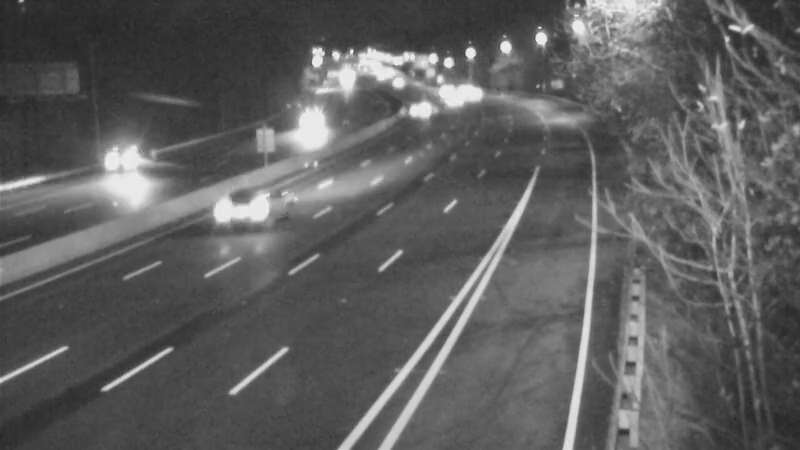vehicle: (197, 160, 277, 240), (82, 120, 162, 200), (374, 59, 424, 109), (426, 74, 476, 124), (389, 89, 439, 139), (292, 99, 342, 149)
